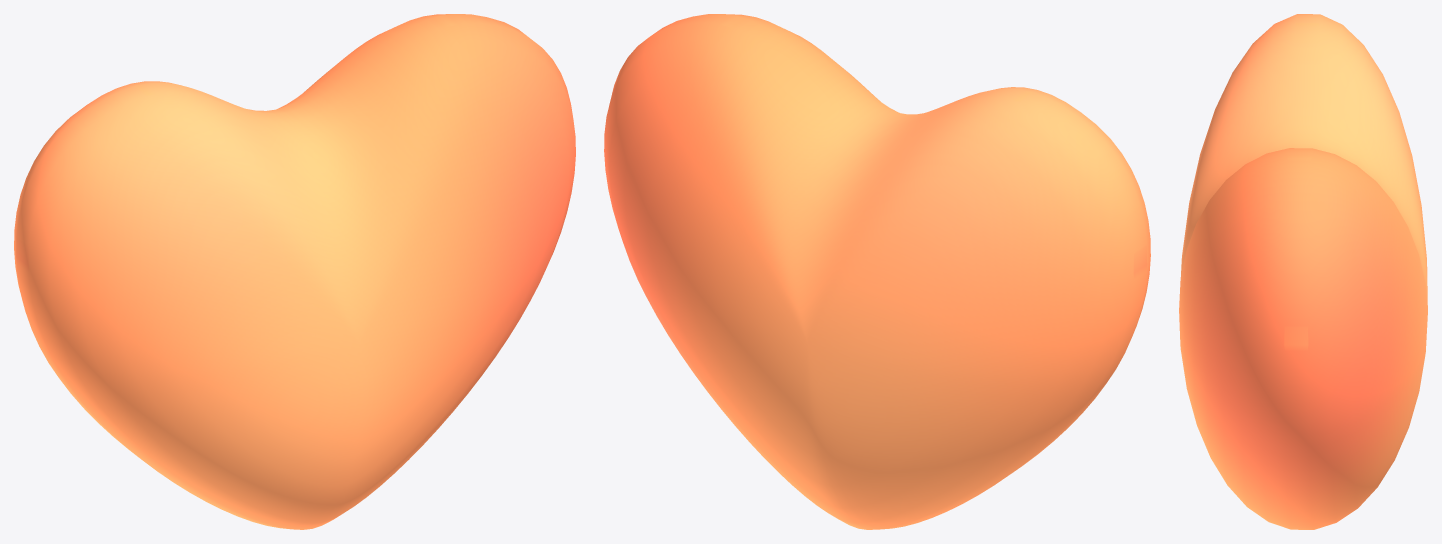
Rendered from heart-orange-v3-matched-v10.glb.
3 renders of one model, left to right at view 1: azimuth 30°, elevation 25°; view 2: azimuth 150°, elevation 25°; view 3: azimuth 270°, elevation 25°, orthographic. The views are drawn at different scales.
Visible parts, largest first — view 1: Heart_Glass; view 2: Heart_Glass; view 3: Heart_Glass.
Part boxes in pixels (bbox=[...]): Heart_Glass: bbox=[14, 14, 575, 529]; Heart_Glass: bbox=[604, 14, 1150, 529]; Heart_Glass: bbox=[1179, 14, 1427, 529].
Bounding box in the file's own units: 0.0801 × 0.0665 × 0.0347.
Materials: 1 (1 with a texture image).
